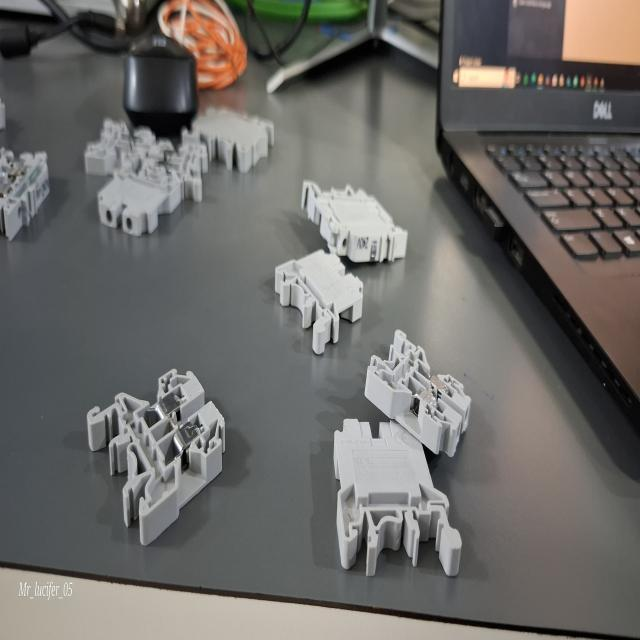Inverted: (327, 404, 468, 578), (269, 235, 370, 368)
Pass: (74, 360, 244, 542), (362, 318, 478, 458)
